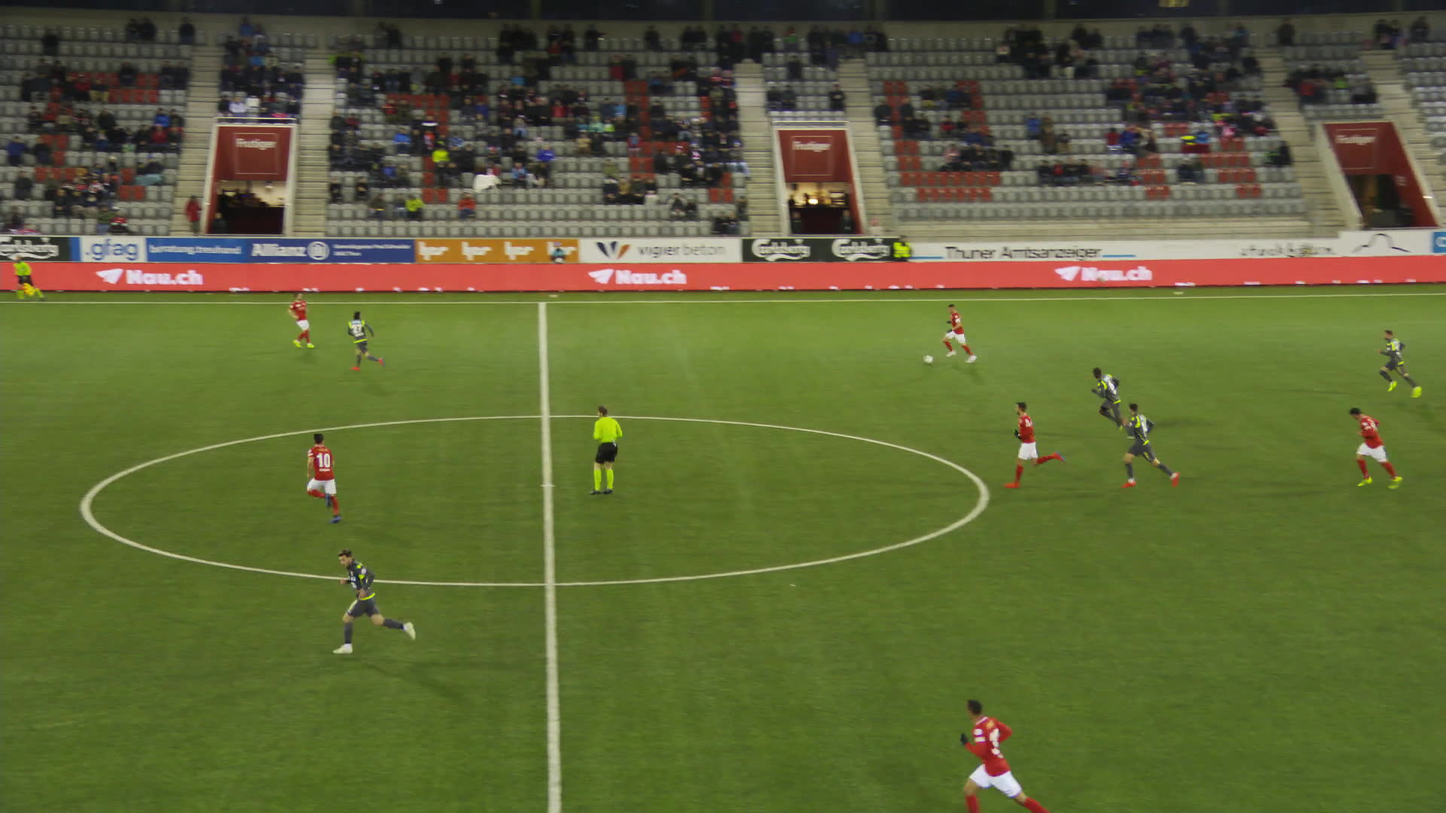ball: (922, 354, 931, 362)
player: (961, 698, 1049, 811), (339, 547, 412, 651), (999, 399, 1063, 486), (1115, 401, 1176, 489), (1343, 406, 1395, 487), (1088, 367, 1133, 438), (303, 434, 339, 522), (1374, 329, 1415, 396), (343, 311, 380, 370), (937, 303, 970, 363), (283, 288, 315, 347)
referee: (586, 403, 624, 494), (8, 254, 38, 301)
